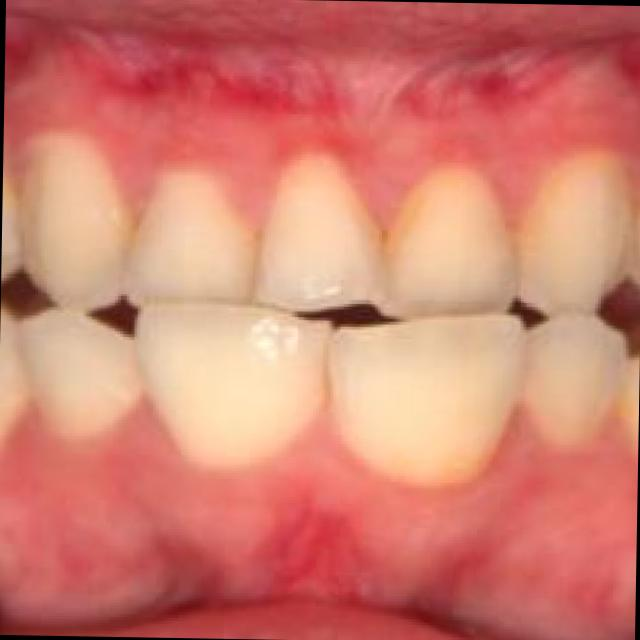cavity: (0, 0, 640, 640)
tooth: (326, 312, 528, 492), (132, 302, 332, 474), (0, 594, 523, 640), (380, 164, 523, 324), (254, 150, 388, 316), (17, 132, 135, 316), (126, 166, 260, 310), (18, 306, 146, 446), (520, 312, 628, 454), (1, 303, 34, 467), (3, 158, 26, 294), (618, 348, 640, 474)
